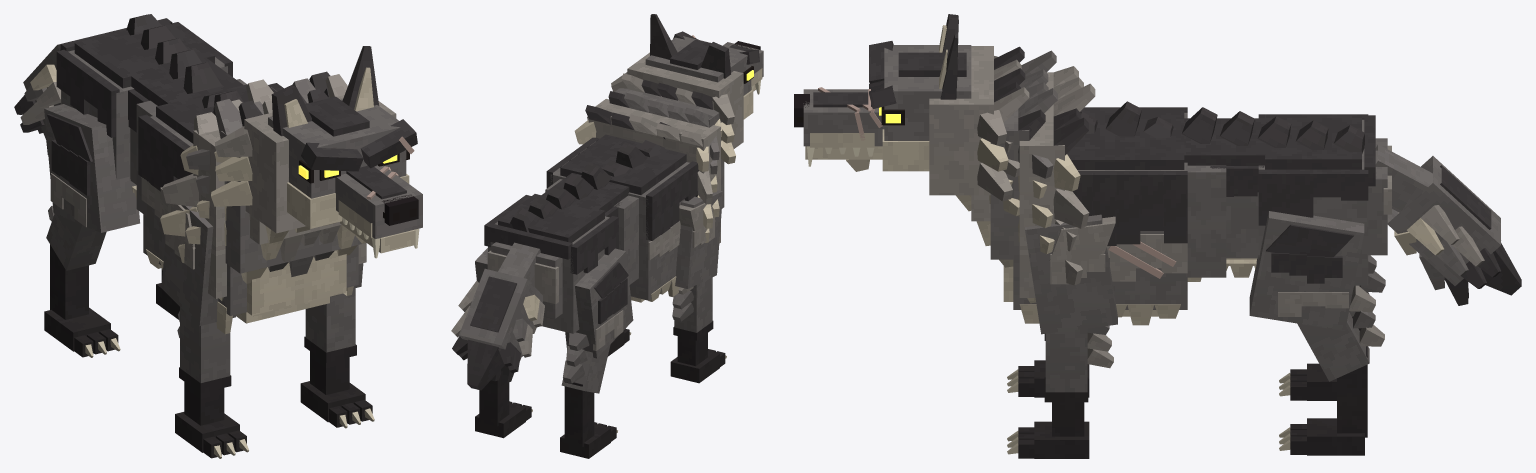
File: fmob_wolf.glb
3 renders of one model, left to right at view 1: azimuth 30°, elevation 25°; view 2: azimuth 150°, elevation 25°; view 3: azimuth 270°, elevation 25°, orthographic. The views are drawn at different scales.
Parts seen in each view (by area): view 1: fmob_wolf, head, leg_br, leg_fr, leg_fl, sway_tail, jaw, leg_bl; view 2: fmob_wolf, leg_br, sway_tail, head, leg_fr, leg_bl; view 3: fmob_wolf, head, leg_bl, leg_fl, sway_tail, leg_br, leg_fr, jaw.
Boxes of the visible parts, bbox=[...] form: fmob_wolf: bbox=[56, 14, 366, 334]; head: bbox=[211, 46, 422, 258]; leg_br: bbox=[44, 104, 139, 357]; leg_fr: bbox=[160, 187, 248, 458]; leg_fl: bbox=[300, 263, 374, 428]; sway_tail: bbox=[14, 44, 60, 154]; jaw: bbox=[340, 219, 415, 253]; leg_bl: bbox=[156, 268, 179, 319]; fmob_wolf: bbox=[484, 73, 724, 333]; leg_br: bbox=[560, 248, 633, 458]; sway_tail: bbox=[451, 242, 544, 390]; head: bbox=[611, 14, 763, 164]; leg_fr: bbox=[670, 190, 726, 383]; leg_bl: bbox=[475, 248, 532, 438]; fmob_wolf: bbox=[971, 46, 1391, 325]; head: bbox=[794, 14, 1012, 211]; leg_bl: bbox=[1249, 211, 1384, 455]; leg_fl: bbox=[1007, 214, 1117, 458]; sway_tail: bbox=[1375, 144, 1521, 305]; leg_br: bbox=[1279, 255, 1385, 400]; leg_fr: bbox=[1007, 333, 1089, 397]; jaw: bbox=[805, 146, 882, 171].
Bounding box in the file's own units: 0.6978 × 1.39 × 2.26.
13 materials, 6 textured.
